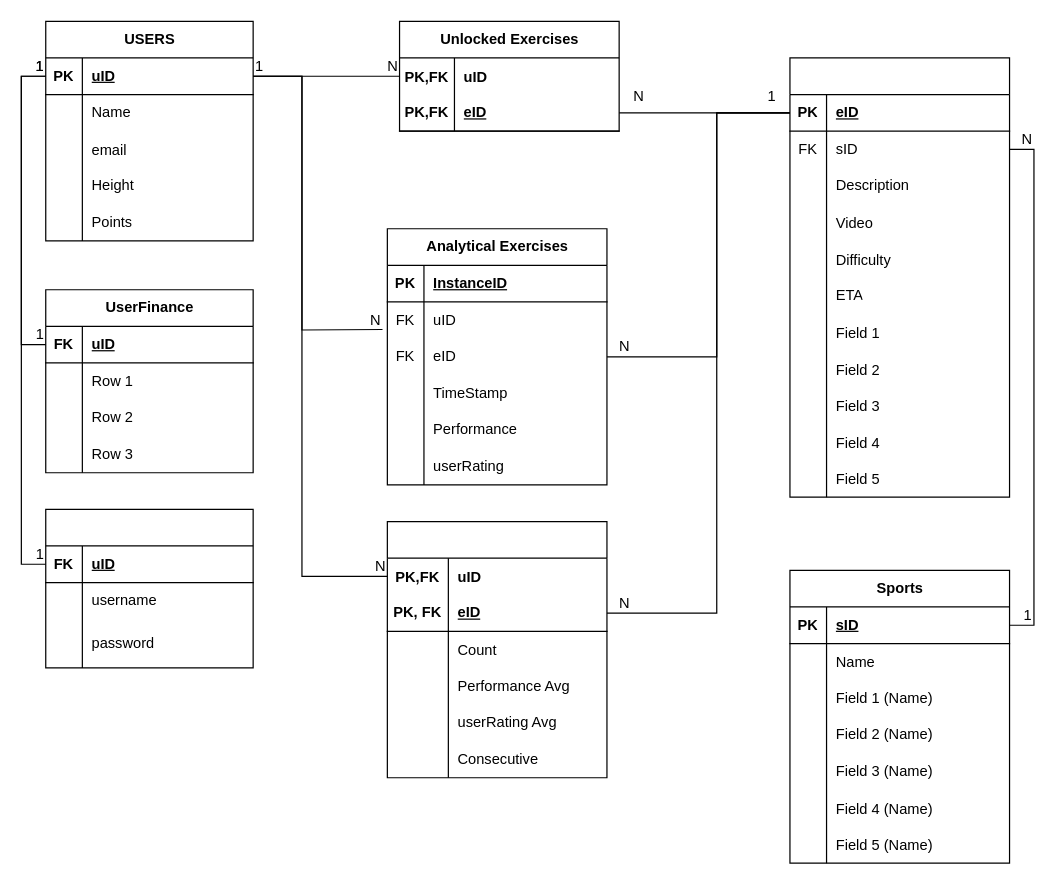
Some shapes in this 1057 by 885 pixel diagram are drawn without their labels. Here are the shapes that lost their labels. From the top down, the box of each, then its label:
(789, 57, 1010, 497): EXCERCISES
(45, 508, 253, 668): User Auth
(386, 520, 607, 778): Aggregated Exercises
